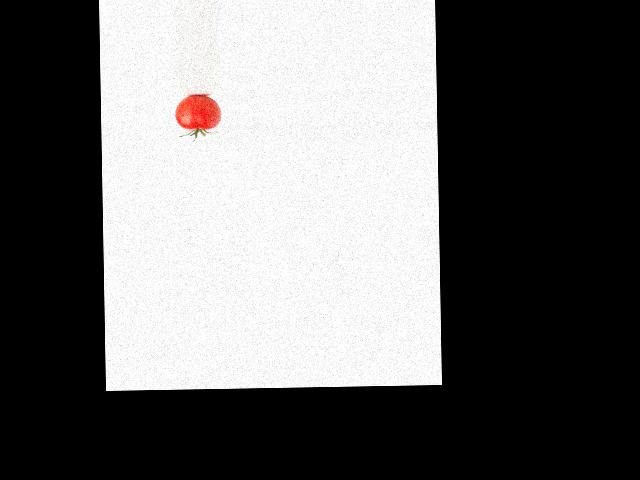tomato: (174, 95, 220, 130)
